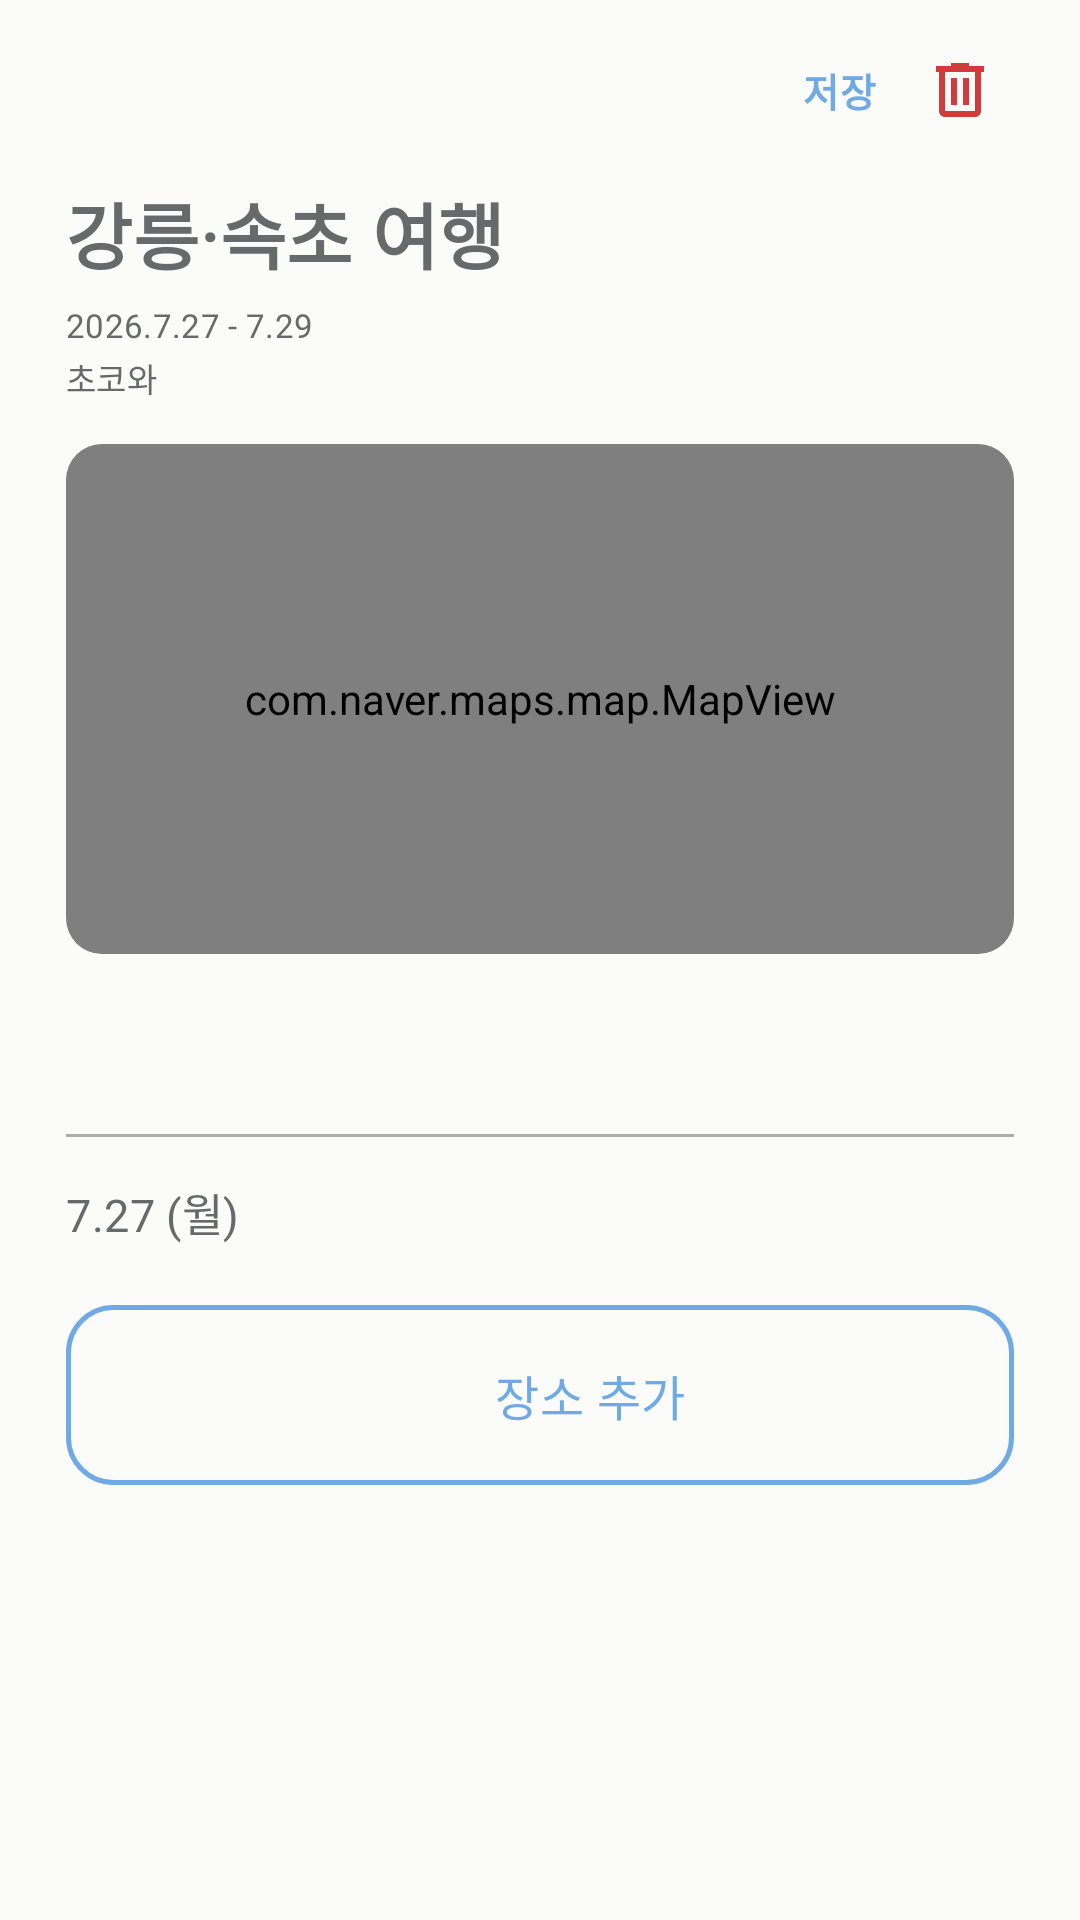

Named icons in this screenshot (1080px×1920px) and their bounding boxes, (x1=x1, y1=y1, x2=x2, y2=y2):
여행 삭제: (x1=936, y1=63, x2=984, y2=117)
